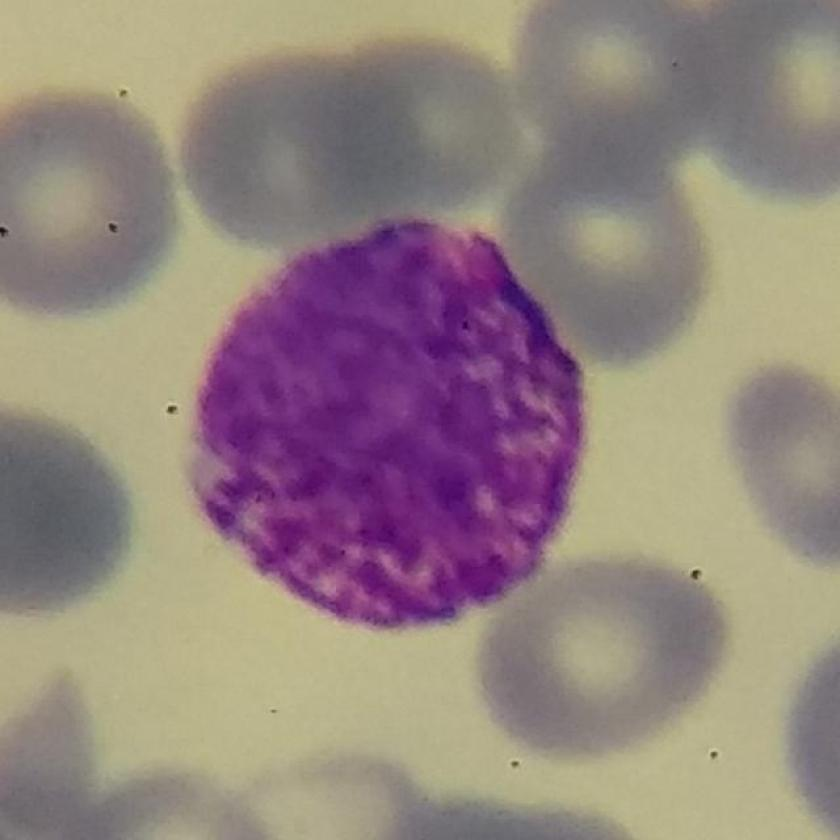basophil: (185, 206, 596, 645)
